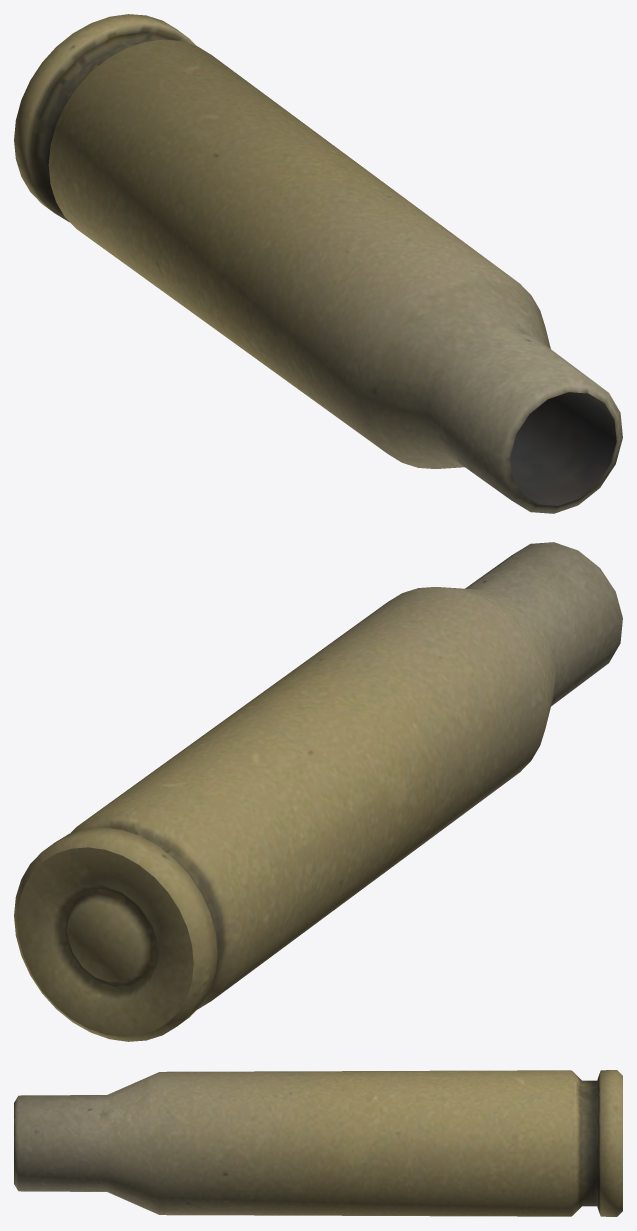
File: casing_ak47_casing.glb
3 views of the same model, one above another, from view 1: azimuth 30°, elevation 25°; view 2: azimuth 150°, elevation 25°; view 3: azimuth 270°, elevation 25° (orthographic). The views are drawn at different scales.
Parts seen in each view (by area): view 1: casing_ak47_casing; view 2: casing_ak47_casing; view 3: casing_ak47_casing.
Part boxes in pixels (<box>): casing_ak47_casing: <box>14,14,622,513</box>; casing_ak47_casing: <box>14,542,622,1041</box>; casing_ak47_casing: <box>14,1070,622,1216</box>.
Size of the model in its own units: 0.0103 by 0.0103 by 0.0426.
1 material, 1 textured.
